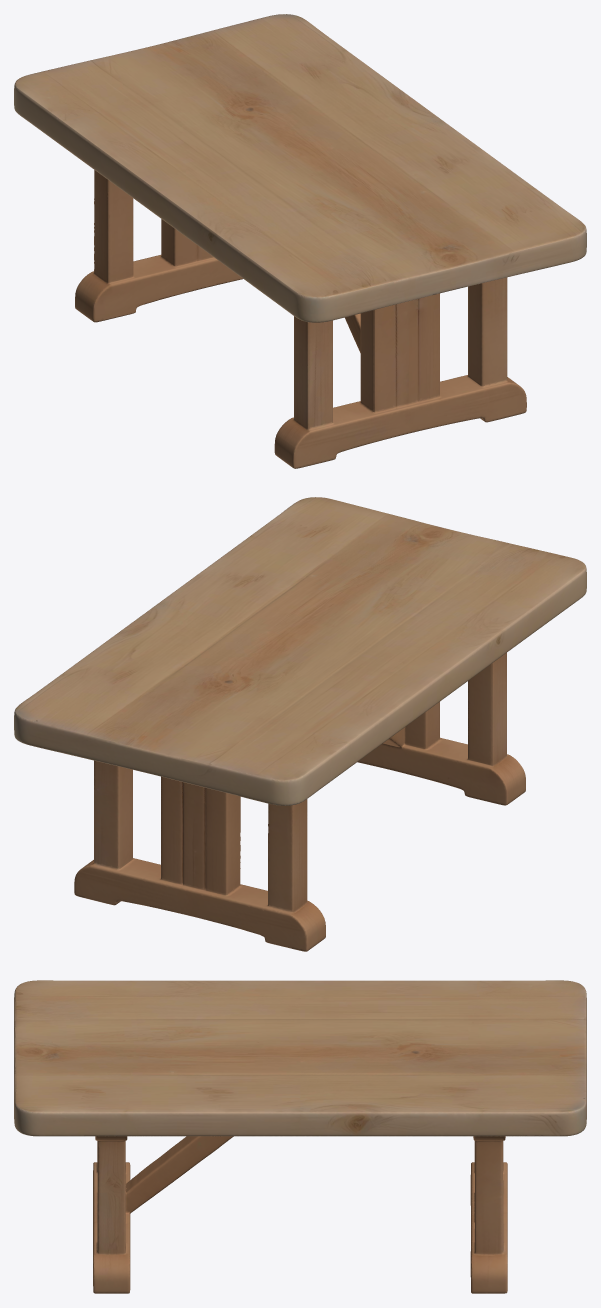
File: detailed_realistic_model_largeoaktable_05.glb
The picture shows the model from 3 angles, top to bottom: view 1: azimuth 30°, elevation 25°; view 2: azimuth 150°, elevation 25°; view 3: azimuth 270°, elevation 25°; orthographic projection. The views are drawn at different scales.
Visible parts, largest first — view 1: tripo_node_002d3e7a-c7ec-4d44-9487-fff08c126caa; view 2: tripo_node_002d3e7a-c7ec-4d44-9487-fff08c126caa; view 3: tripo_node_002d3e7a-c7ec-4d44-9487-fff08c126caa.
Boxes of the visible parts, x1=… form: tripo_node_002d3e7a-c7ec-4d44-9487-fff08c126caa: x1=14, y1=14, x2=586, y2=468; tripo_node_002d3e7a-c7ec-4d44-9487-fff08c126caa: x1=14, y1=497, x2=586, y2=951; tripo_node_002d3e7a-c7ec-4d44-9487-fff08c126caa: x1=14, y1=980, x2=586, y2=1293.
Size of the model in its own units: 0.549 by 0.3756 by 1.
Materials: 1 (1 with a texture image).
